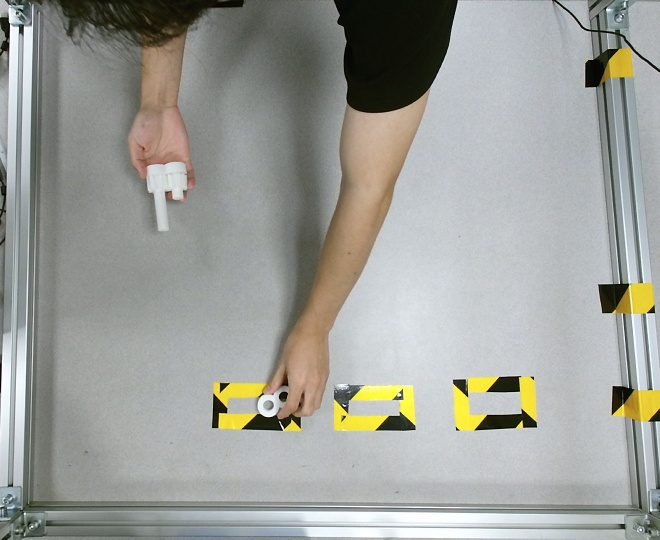stage_3: (146, 162, 187, 233)
